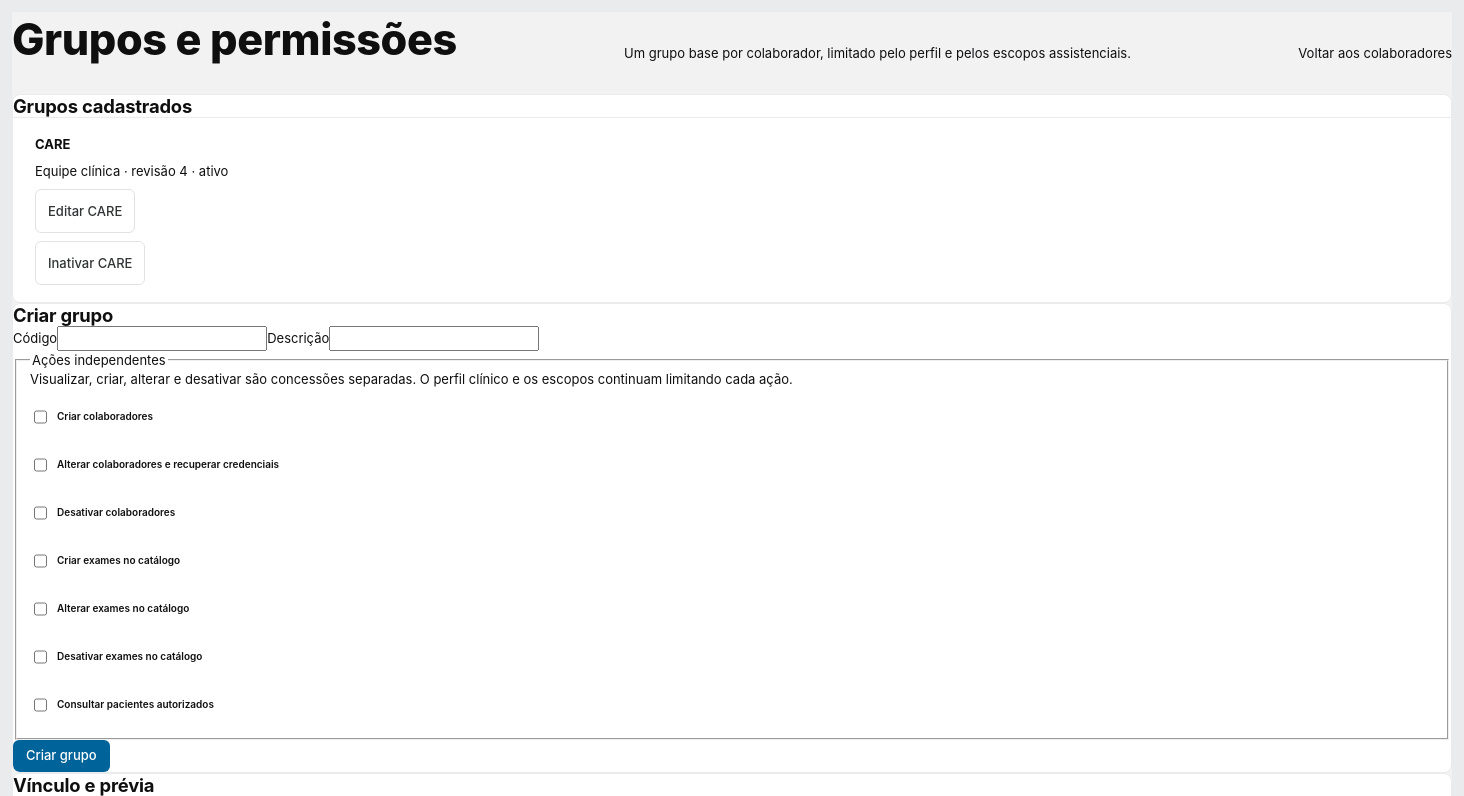
Scenario: access group editor and effective preview › creates a genuinely create-only group and cancelling an edit resets the draft matrix
Expected: the heading "Grupos cadastrados" is shown, [13,95,192,117]
Type "CREATE_ONLY" into the field labelled "Código".
click(162, 339); type("CREATE_ONLY")  # box [57,326,267,351]
Type "Criar sem alterar ou desativar" into the field labelled "Descrição".
click(434, 339); type("Criar sem alterar ou desativar")  # box [329,326,539,351]
Click the checkbox labelled "Criar colaboradores".
click(40, 417)  # box [34,400,47,434]
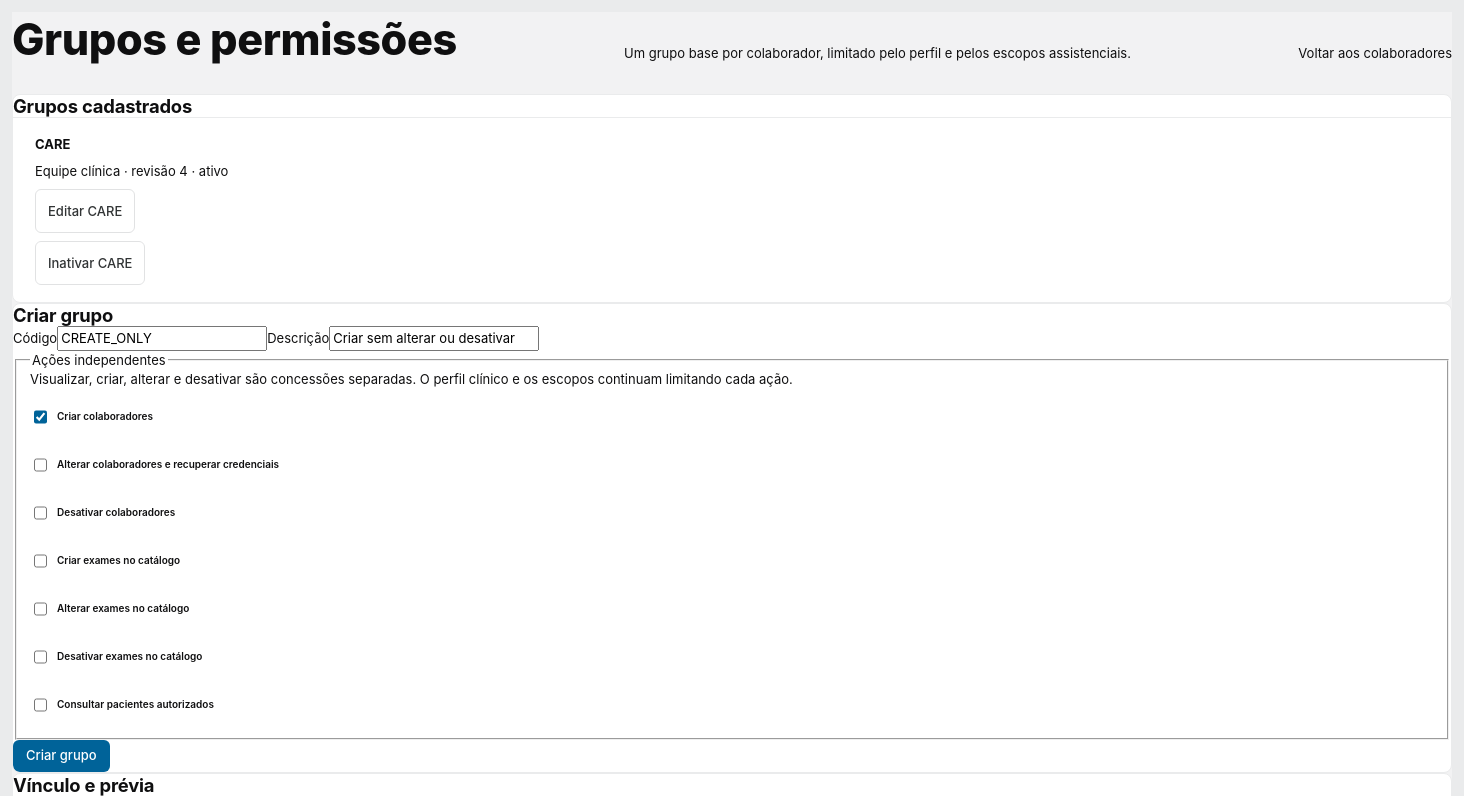
Click the checkbox labelled "Consultar pacientes autorizados".
click(40, 705)  # box [34,688,47,722]
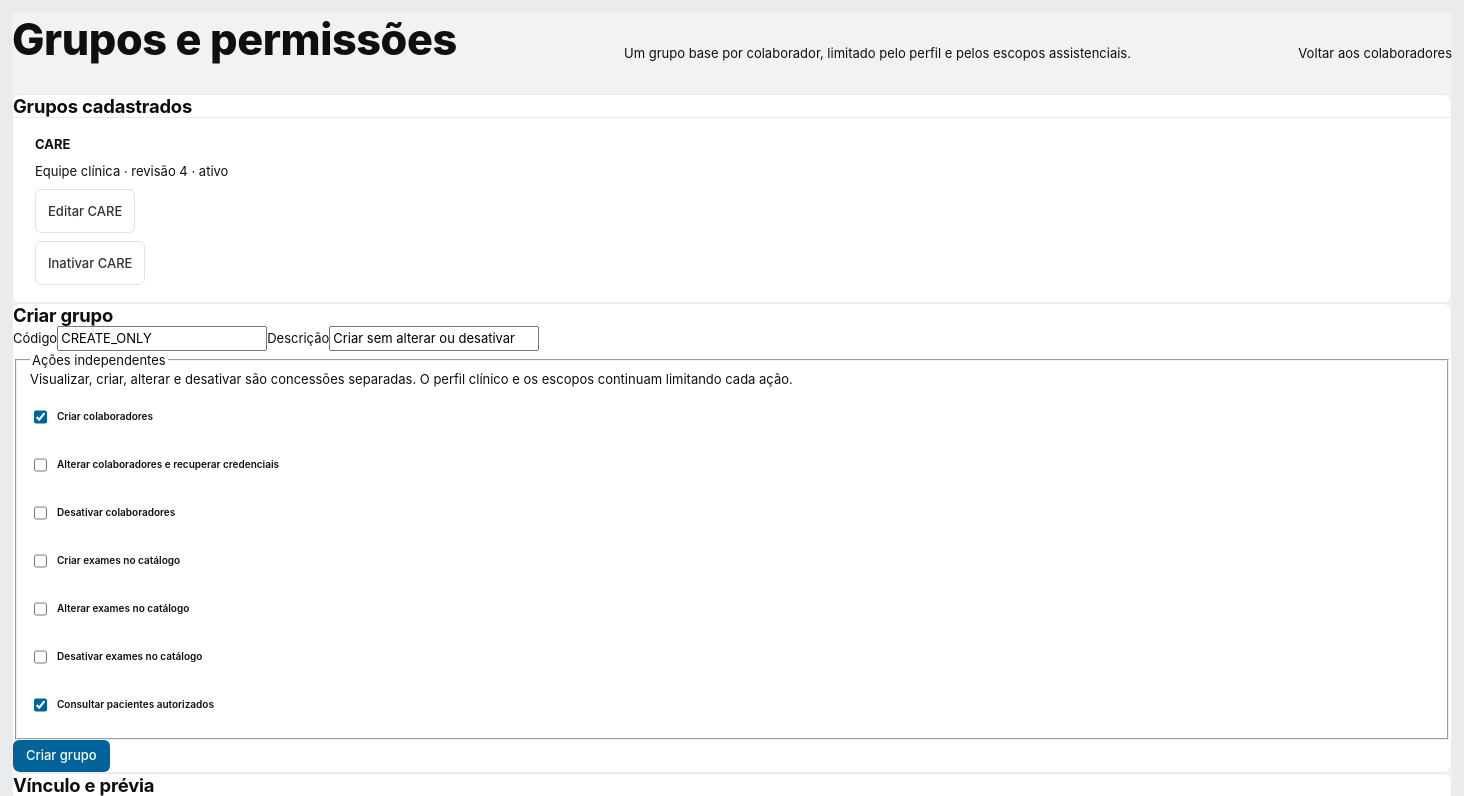
Click the checkbox labelled "Consultar pacientes autorizados".
click(40, 705)  # box [34,688,47,722]
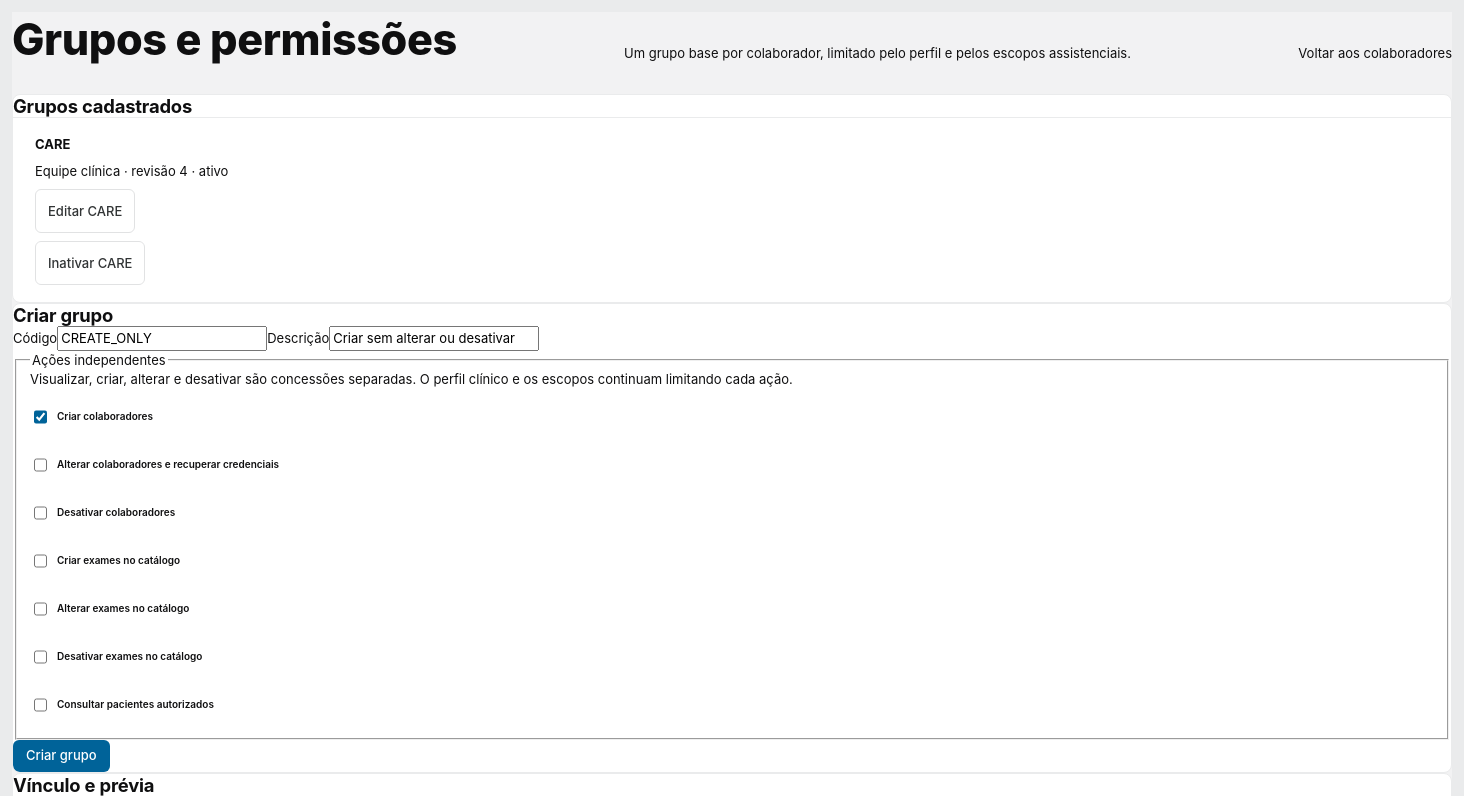
Submit the form named "Matriz do grupo", box [13,326,1451,772]
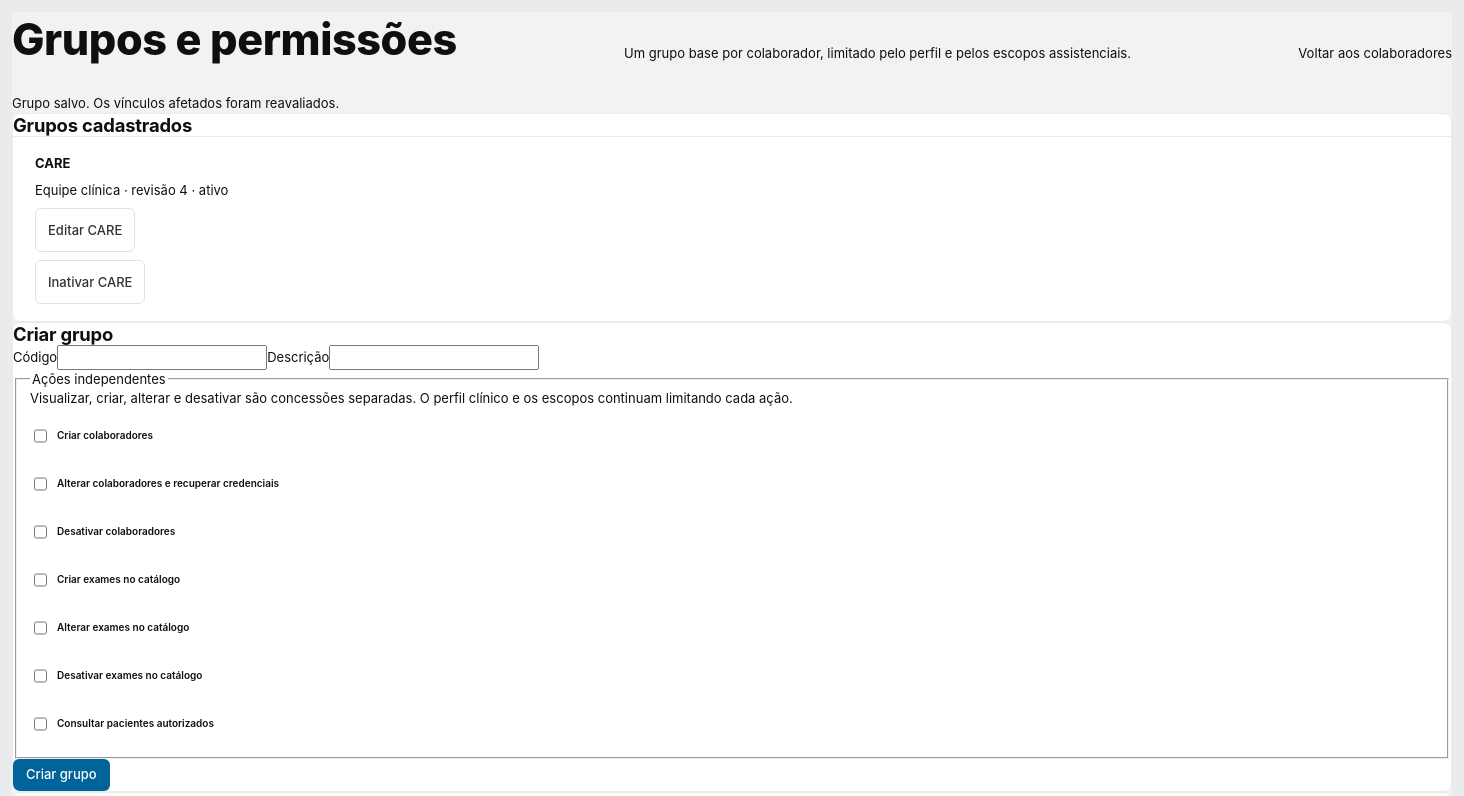
Result: the text "Grupo salvo. Os vínculos afetados foram reavaliados." is shown at [12,95,339,111]
Click the button "Editar CARE".
click(85, 230)  # box [35,208,135,252]
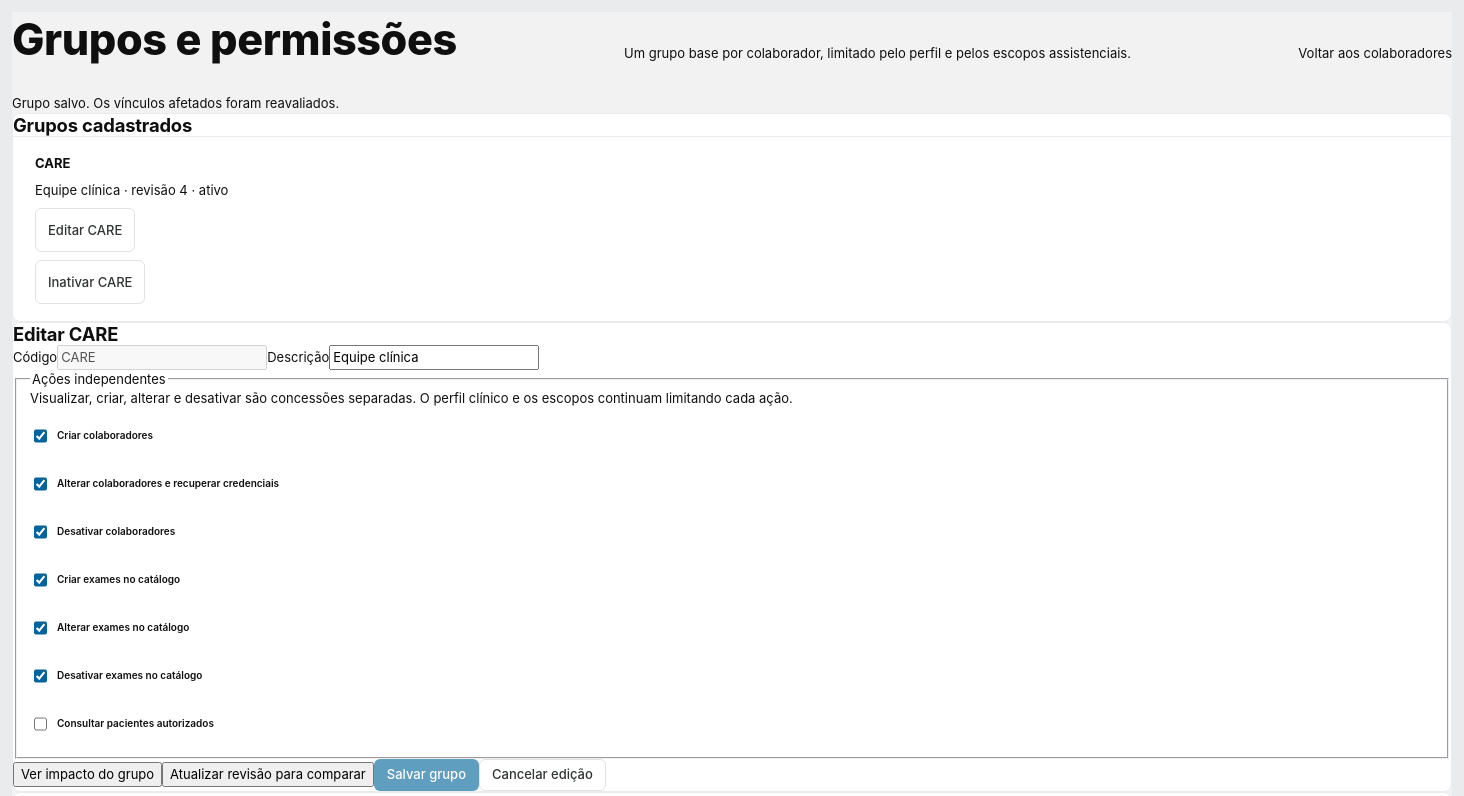
Result: the field labelled "Código" is disabled at [57,345,267,370]
Click the button "Cancelar edição".
click(542, 775)  # box [479,759,606,791]
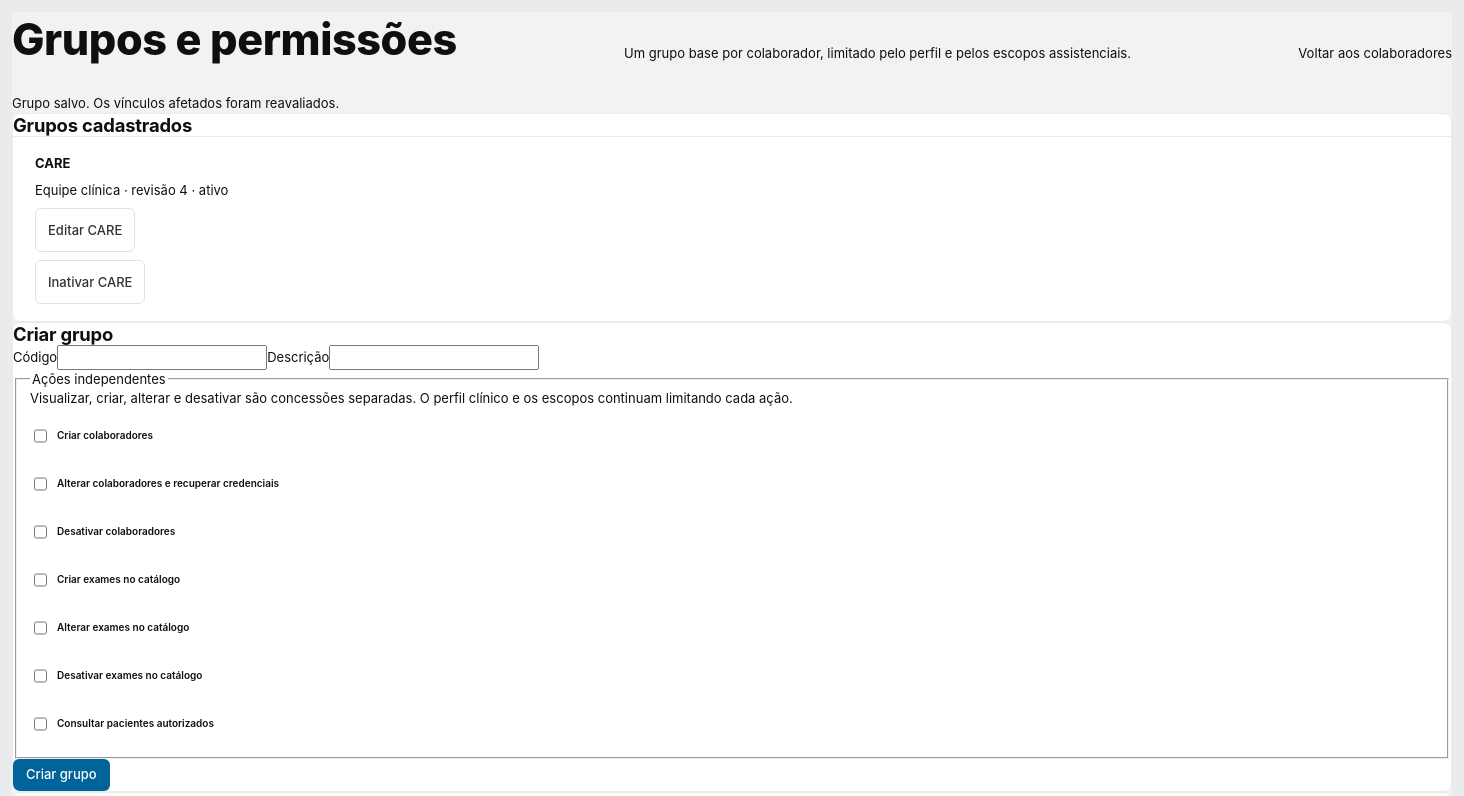
Result: the checkbox labelled "Criar colaboradores" is not checked at [34,419,47,453]
Result: the field labelled "Código" is empty at [57,345,267,370]
Result: the field labelled "Código" is enabled at [57,345,267,370]
